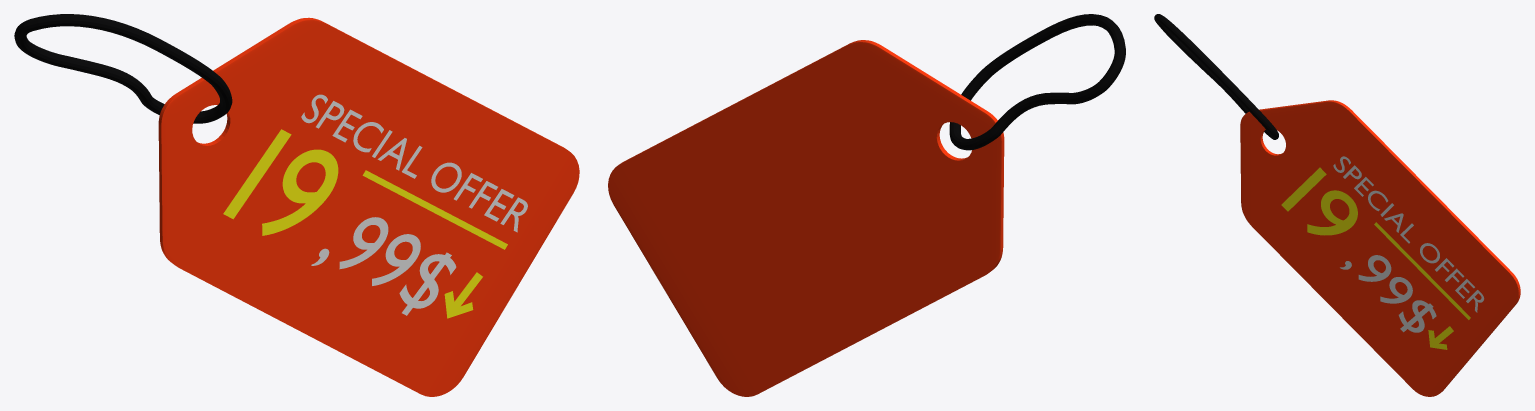
The picture shows the model from 3 angles, left to right: view 1: azimuth 30°, elevation 25°; view 2: azimuth 150°, elevation 25°; view 3: azimuth 330°, elevation 25°; orthographic projection. The views are drawn at different scales.
Bounding box in the file's own units: 0.579 × 0.4815 × 0.0817.
